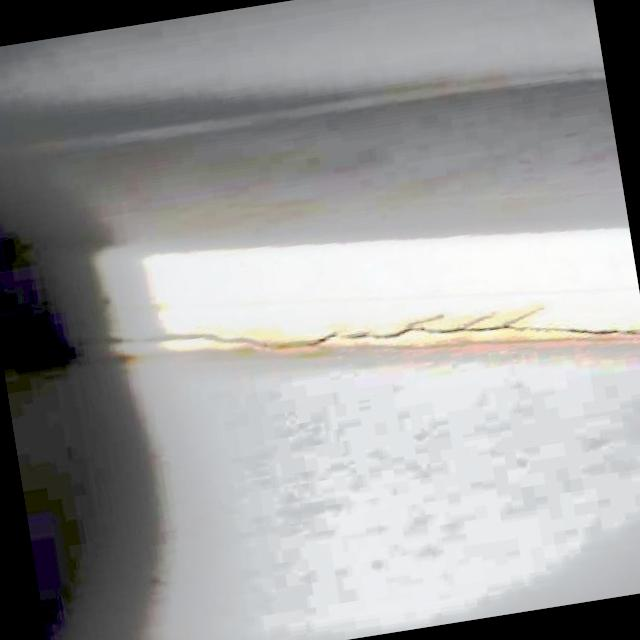crack: (250, 317, 406, 358), (516, 310, 640, 357), (408, 308, 512, 343), (154, 327, 248, 355)
